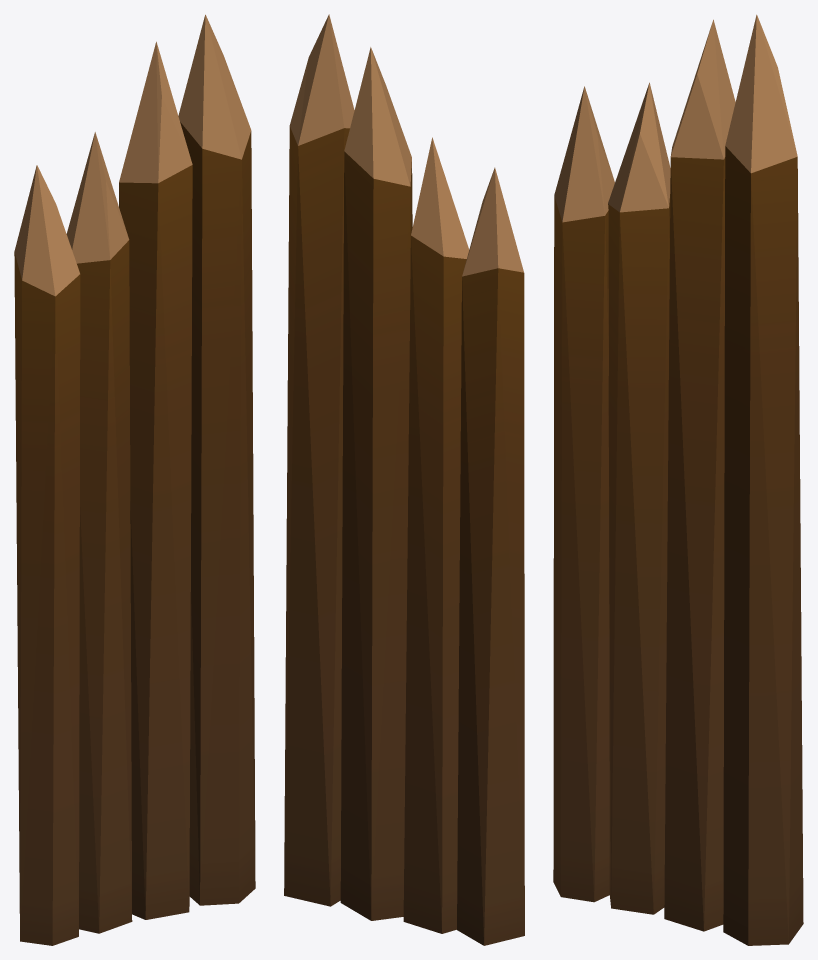
The model's file is FenceBig_07.fbx.
3 views of the same model, side by side, from view 1: azimuth 30°, elevation 25°; view 2: azimuth 150°, elevation 25°; view 3: azimuth 330°, elevation 25° (orthographic). The views are drawn at different scales.
Parts seen in each view (by area): view 1: FenceBig_07; view 2: FenceBig_07; view 3: FenceBig_07.
Boxes of the visible parts, box(x1,y1,x2,y2) form: FenceBig_07: box(14, 14, 255, 945); FenceBig_07: box(284, 14, 524, 945); FenceBig_07: box(553, 14, 803, 945).
Bounding box in the file's own units: 87.32 × 314 × 25.36.
